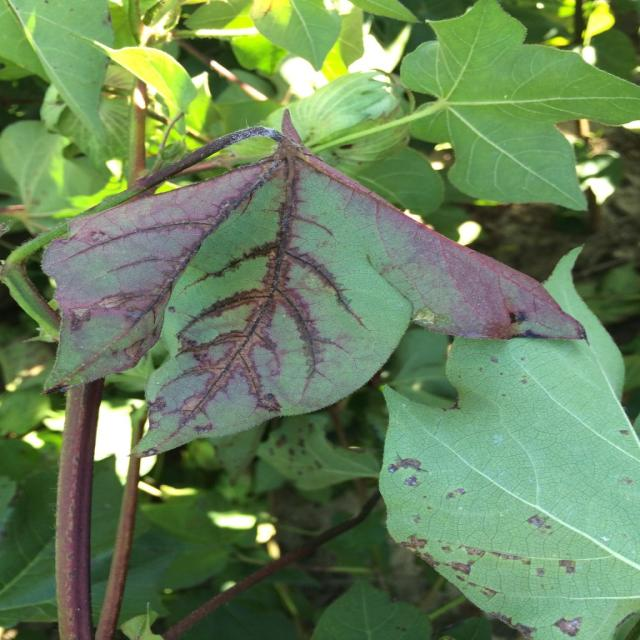Bacterial Blight: (187, 186, 353, 430)
